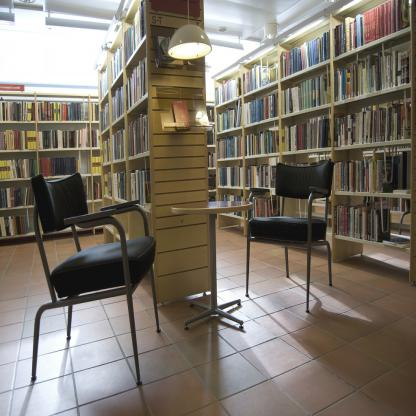book: (100, 0, 148, 210), (334, 0, 411, 57), (332, 96, 413, 147), (334, 55, 410, 97), (280, 26, 332, 78), (334, 150, 392, 194), (332, 202, 393, 241), (281, 110, 332, 150), (0, 158, 81, 182), (281, 72, 332, 102), (36, 99, 86, 123), (244, 94, 280, 122), (243, 163, 277, 192), (212, 77, 242, 109), (242, 61, 273, 90), (243, 130, 280, 154), (38, 130, 87, 148), (215, 100, 242, 132), (244, 196, 282, 218), (0, 127, 36, 150), (0, 210, 29, 238), (0, 98, 36, 120), (0, 186, 36, 208), (219, 194, 244, 218), (217, 134, 244, 156), (217, 166, 243, 188), (86, 154, 102, 176), (375, 160, 383, 194), (90, 129, 102, 148), (88, 102, 100, 118)
